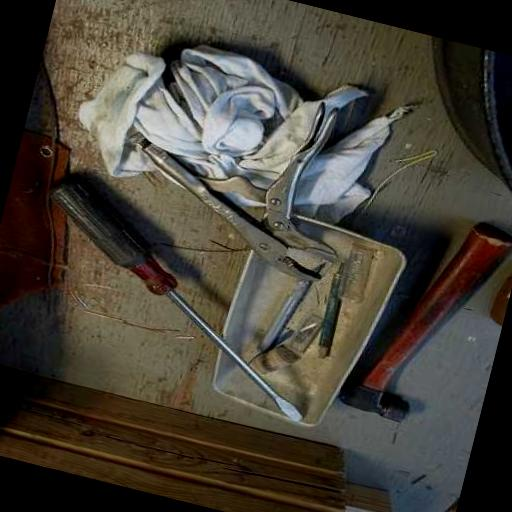screwdriver: (8, 169, 346, 424)
